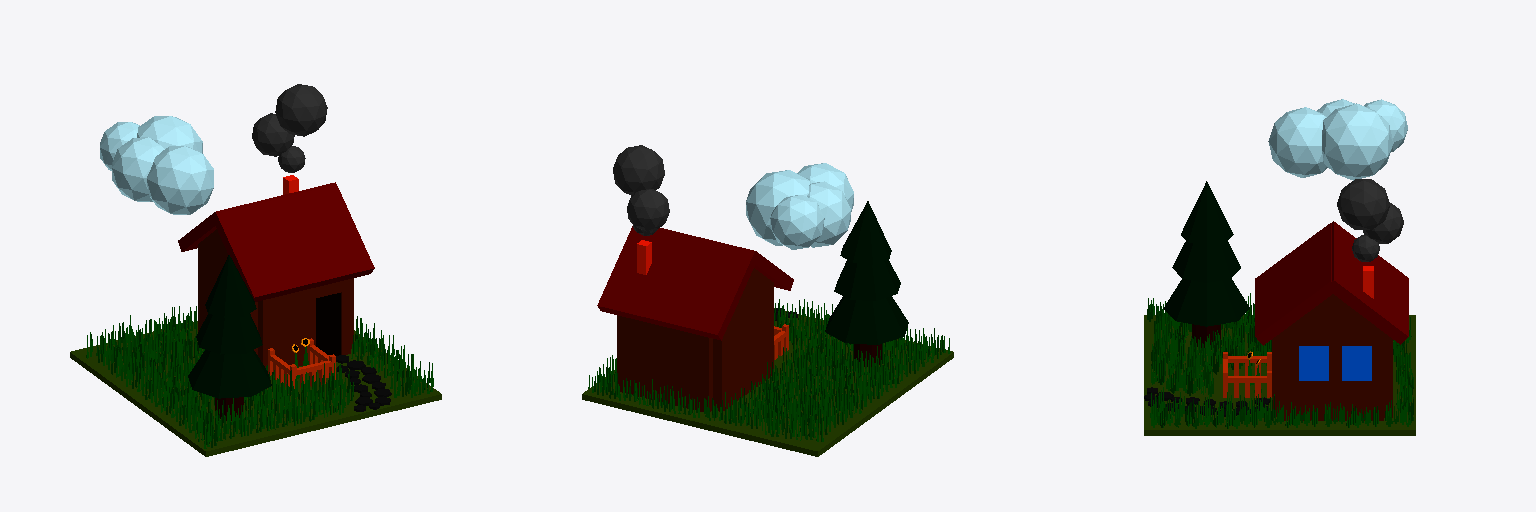
The model's file is house.obj.
3 renders of one model, left to right at view 1: azimuth 30°, elevation 25°; view 2: azimuth 150°, elevation 25°; view 3: azimuth 270°, elevation 25°, orthographic.
Visible parts, largest first — view 1: Cube.009_Cube.010, Icosphere_Icosphere.001, Cube_Cube.028, Cube.003_Cube.004, Cone, Icosphere.003_Icosphere.008, Cone.001, Cone.002, Cube.002_Cube.003, Cube.005_Cube.006, Icosphere.002_Icosphere.007, Cube.010_Cube.011 (+1 smaller); view 2: Cube.010_Cube.011, Icosphere_Icosphere.001, Cube_Cube.028, Cube.001_Cube.002, Cube.002_Cube.003, Cone, Cone.001, Icosphere.003_Icosphere.008, Cone.002, Icosphere.002_Icosphere.007, Cube.009_Cube.010; view 3: Icosphere_Icosphere.001, Cube.004_Cube.005, Cube_Cube.028, Cube.009_Cube.010, Cube.010_Cube.011, Cone, Cone.001, Icosphere.003_Icosphere.008, Cone.002, Cube.006_Cube.007, Cube.008_Cube.009, Icosphere.002_Icosphere.007 (+3 smaller).
Part boxes in pixels (x1,y1,x2,y2): Cube.009_Cube.010: (213, 185, 374, 301); Icosphere_Icosphere.001: (100, 116, 213, 214); Cube_Cube.028: (70, 321, 441, 456); Cube.003_Cube.004: (258, 279, 350, 367); Cone: (188, 350, 271, 398); Icosphere.003_Icosphere.008: (275, 84, 327, 136); Cone.001: (196, 313, 262, 354); Cone.002: (205, 255, 256, 317); Cube.002_Cube.003: (198, 229, 257, 354); Cube.005_Cube.006: (316, 293, 340, 355); Icosphere.002_Icosphere.007: (252, 113, 294, 156); Cube.010_Cube.011: (178, 182, 336, 251); Cube.010_Cube.011: (597, 226, 757, 340); Icosphere_Icosphere.001: (746, 163, 853, 249); Cube_Cube.028: (582, 308, 953, 456); Cube.001_Cube.002: (620, 316, 712, 411); Cube.002_Cube.003: (713, 268, 773, 411); Cone: (825, 296, 908, 344); Cone.001: (834, 260, 900, 300); Icosphere.003_Icosphere.008: (613, 145, 664, 195); Cone.002: (840, 201, 891, 264); Icosphere.002_Icosphere.007: (627, 189, 669, 231); Cube.009_Cube.010: (754, 251, 793, 290); Icosphere_Icosphere.001: (1268, 99, 1407, 180); Cube.004_Cube.005: (1281, 294, 1383, 420); Cube_Cube.028: (1144, 315, 1415, 435); Cube.009_Cube.010: (1255, 223, 1338, 345); Cube.010_Cube.011: (1326, 221, 1408, 344); Cone: (1163, 279, 1249, 326); Cone.001: (1172, 241, 1240, 282); Icosphere.003_Icosphere.008: (1337, 179, 1389, 229); Cone.002: (1181, 181, 1233, 244); Cube.006_Cube.007: (1299, 346, 1328, 380); Cube.008_Cube.009: (1342, 346, 1371, 380); Icosphere.002_Icosphere.007: (1363, 203, 1403, 243).
Size of the model in its own units: 2 by 1.98 by 2.